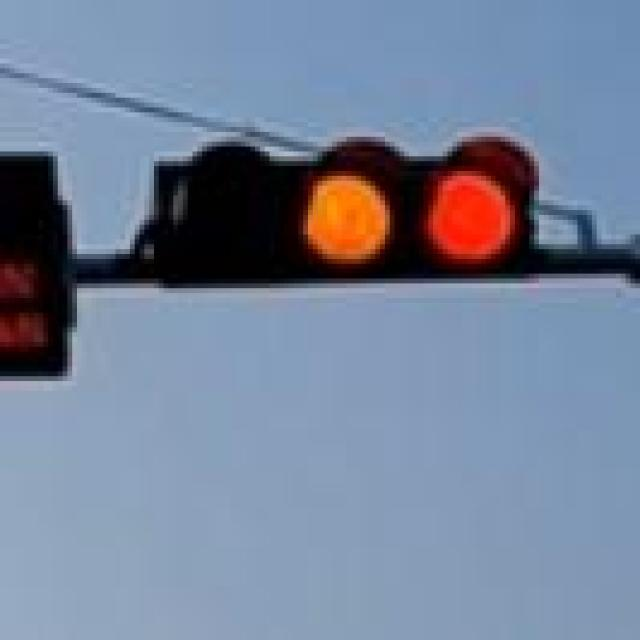yellow_light: (154, 132, 539, 288)
